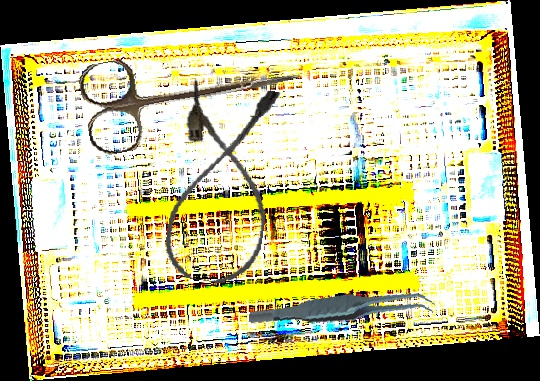Cannula: (160, 78, 286, 289)
Iris Scissors: (76, 26, 308, 158)
Tissue Forceps: (248, 269, 436, 350)
